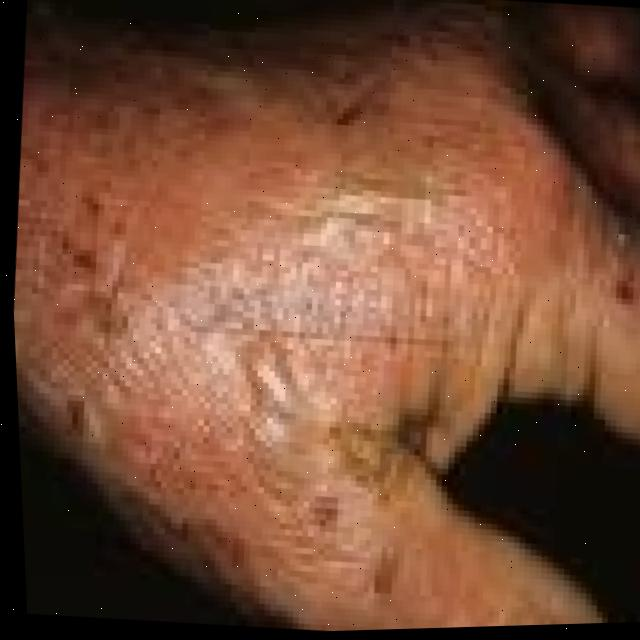Melasma: (11, 23, 488, 495)
